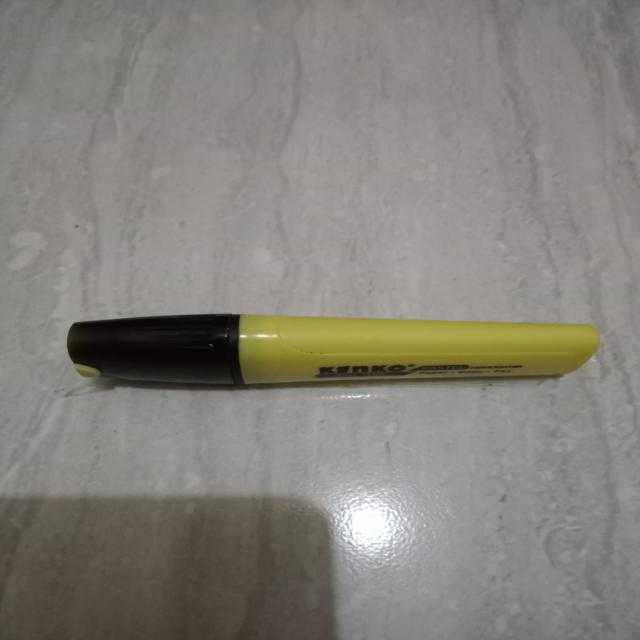highlighter: (51, 300, 618, 410)
